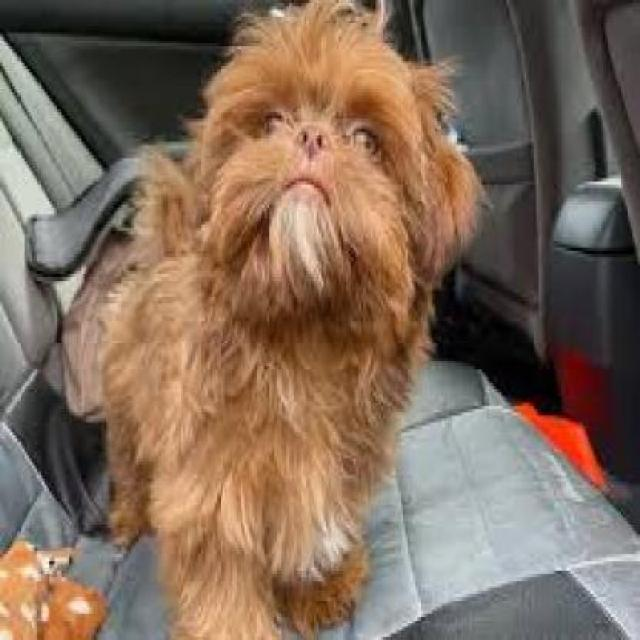animals: (166, 0, 462, 457)
